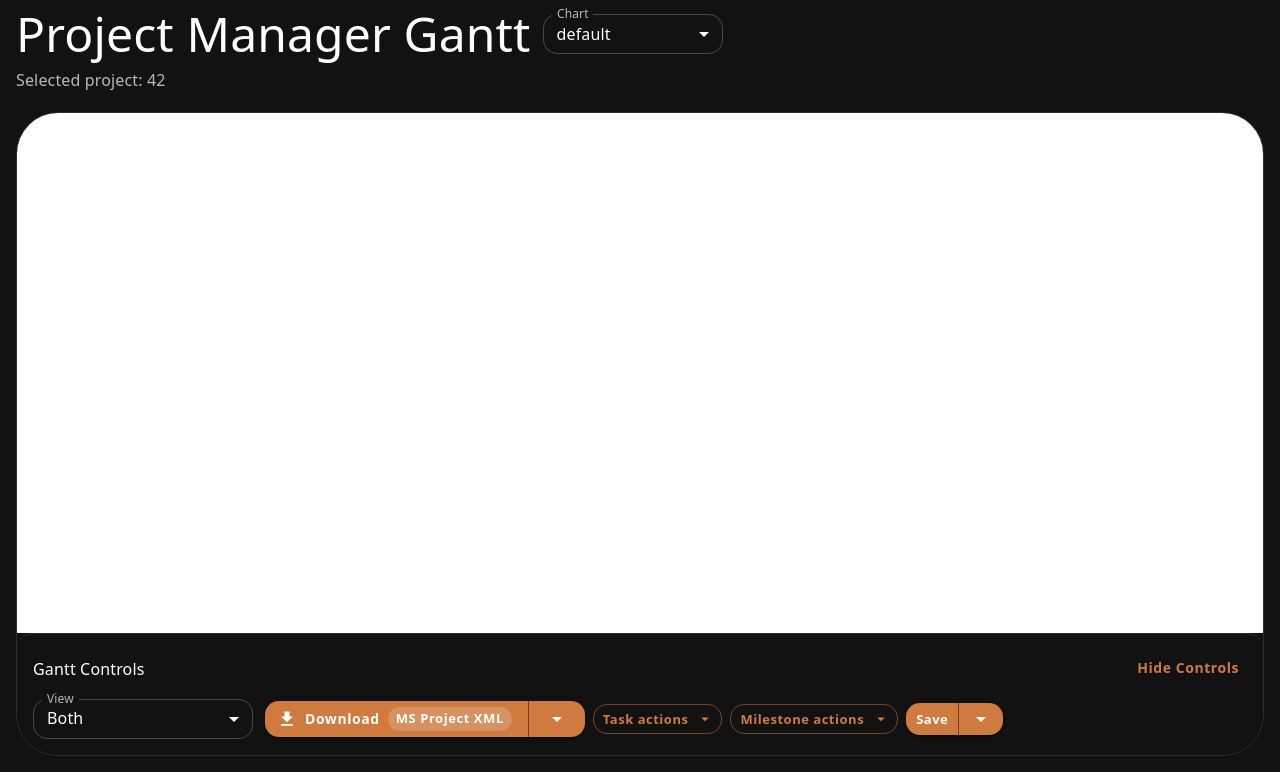
ProjectManagerGanttPage › shows a green success status icon after a successful save
(page scrolled)
Step 1. Click the button "Save" → (933, 719), box [906,703,959,735]
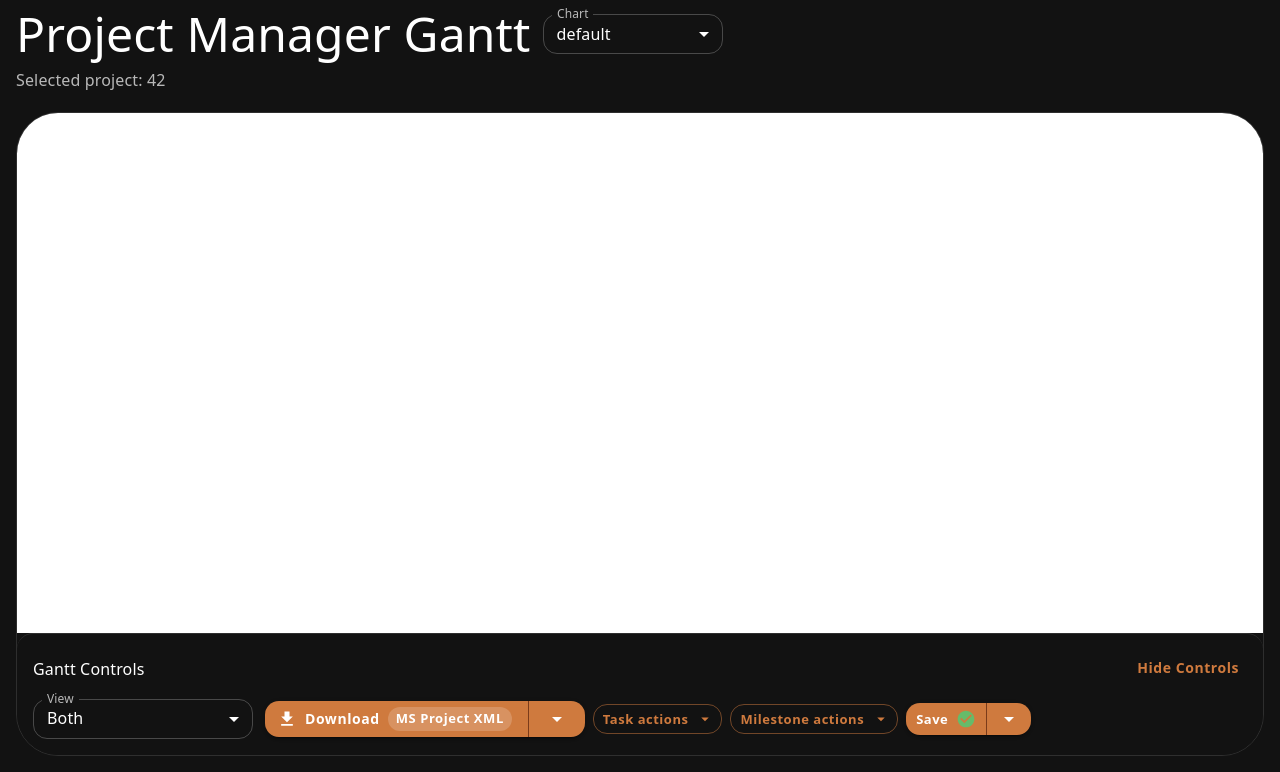
Expected: the icon with test id "gantt-save-status-saved" is shown, [956,709,976,729]
